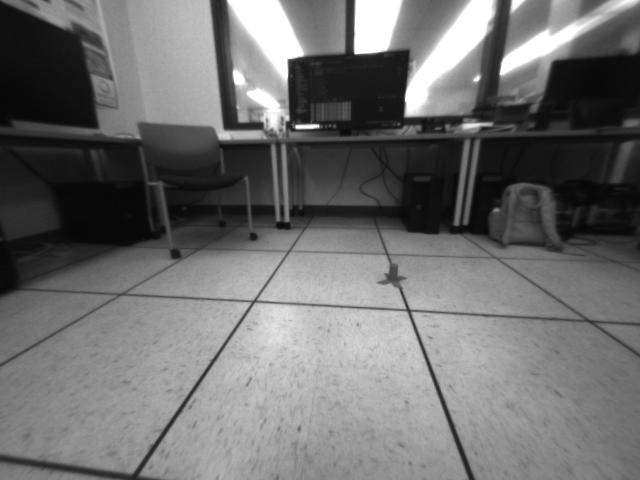X: (377, 262, 408, 291)
